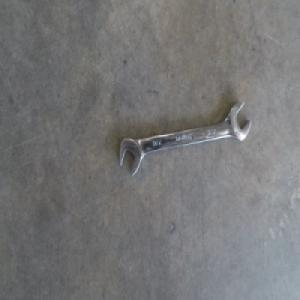Wrench: (114, 101, 247, 175)
